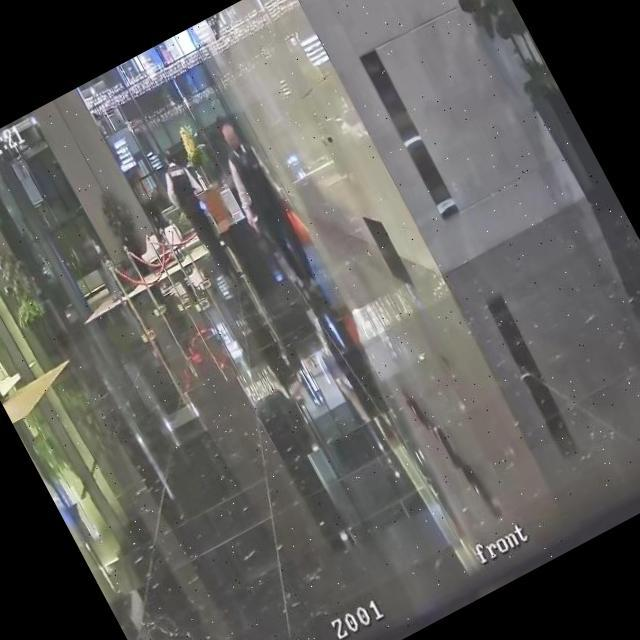person: (200, 108, 334, 305), (148, 142, 244, 284)
